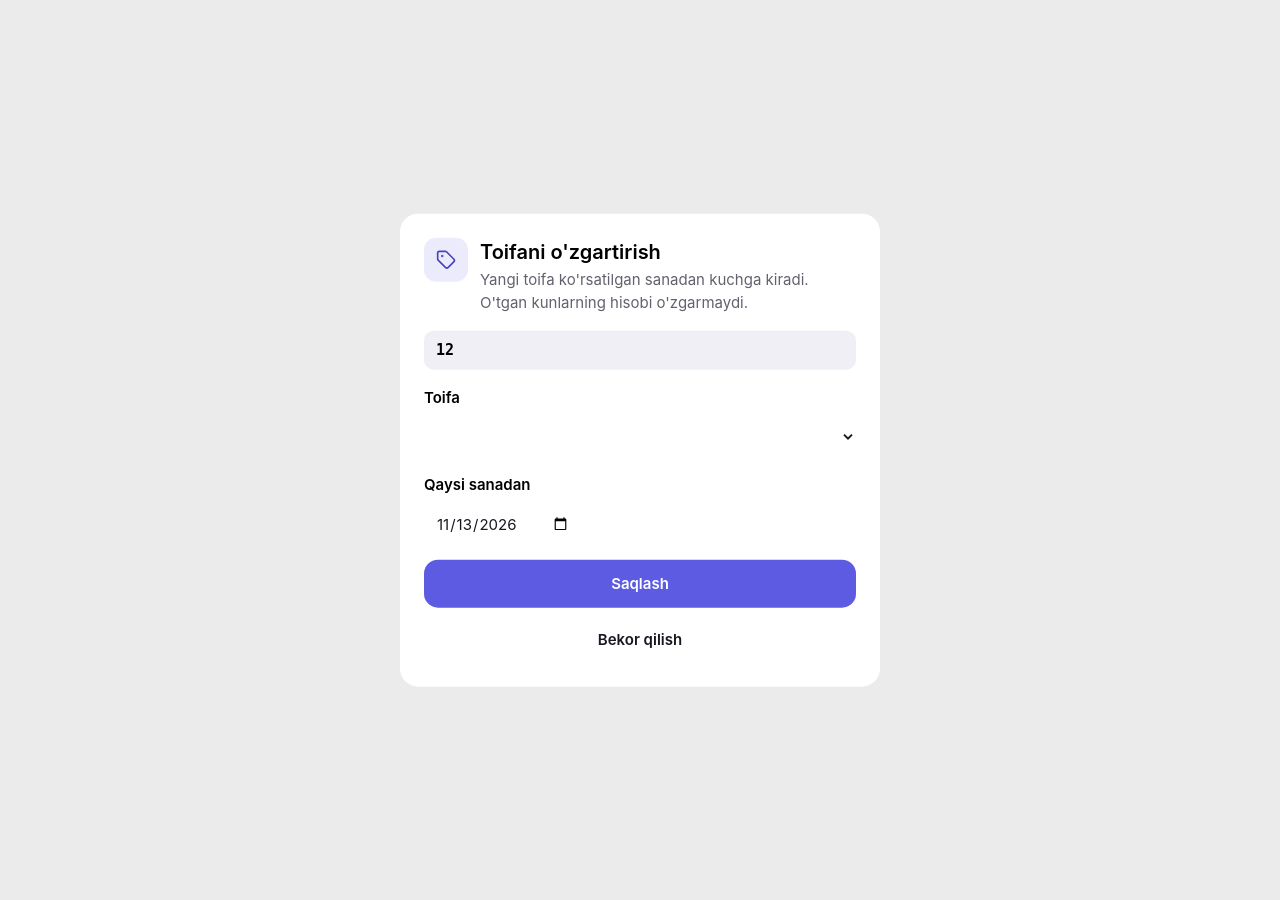
toifa tanlanmagan holda saqlash › ⛔ `errors.required` EKRANDA ko'rinadi va maydonga bog'lanadi
Click the button "Saqlash": (640, 584) [424, 560, 856, 607]
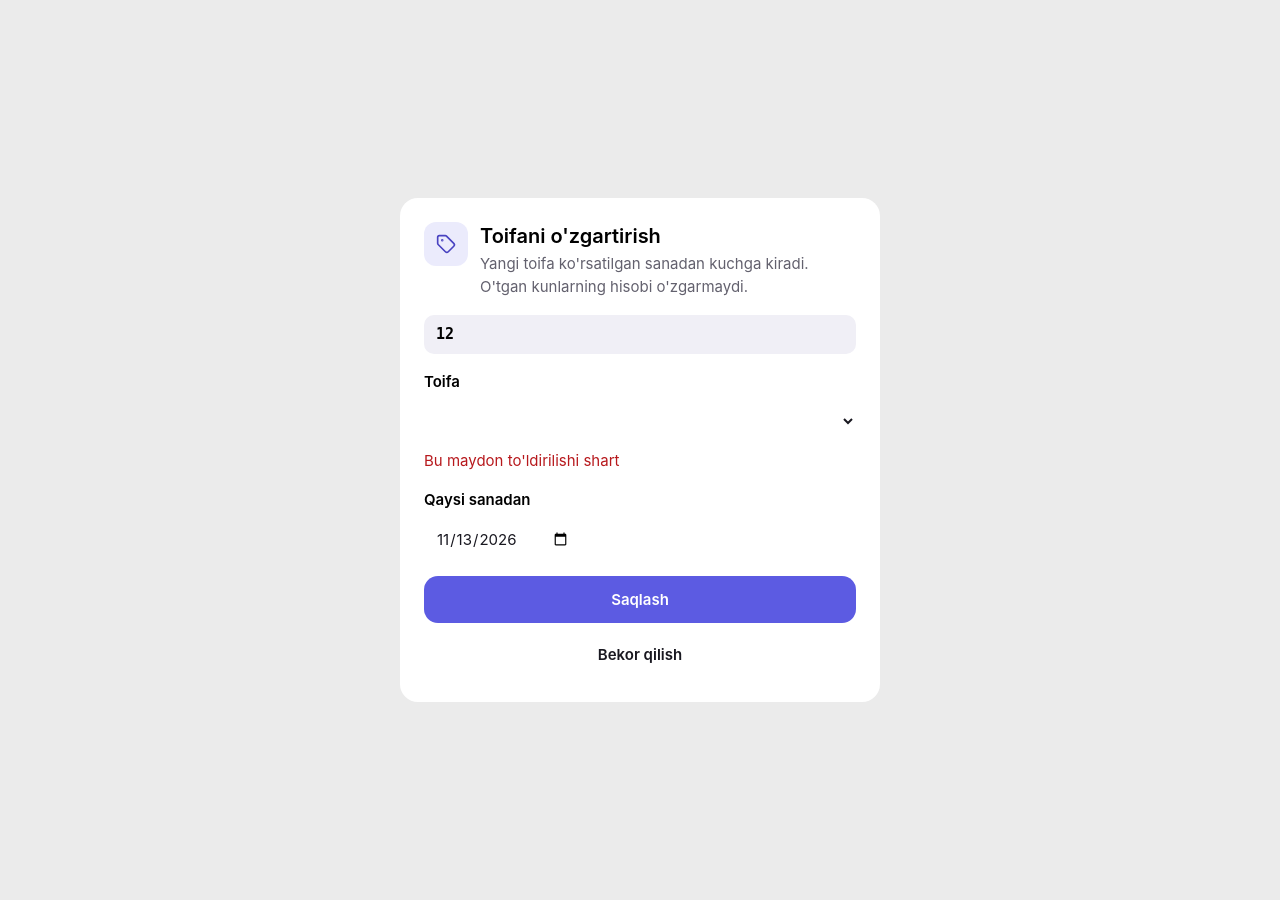
Expected: the text with id "stall-category-value-error" reads "Bu maydon to'ldirilishi shart", [424, 451, 620, 470]
